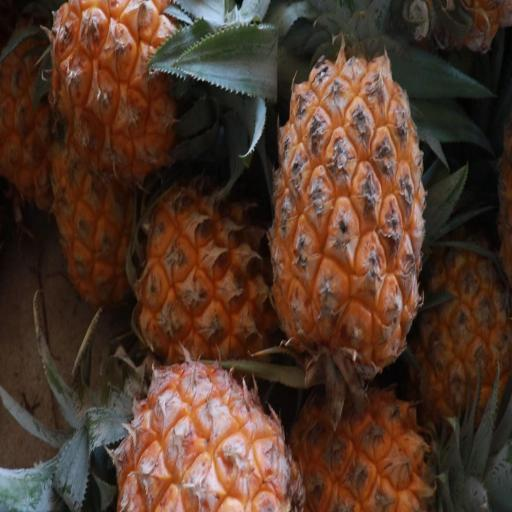Pineapple - v8 v1: (266, 42, 428, 406), (42, 0, 242, 187), (94, 353, 310, 512), (134, 165, 290, 383), (290, 372, 461, 512), (407, 199, 512, 423)
